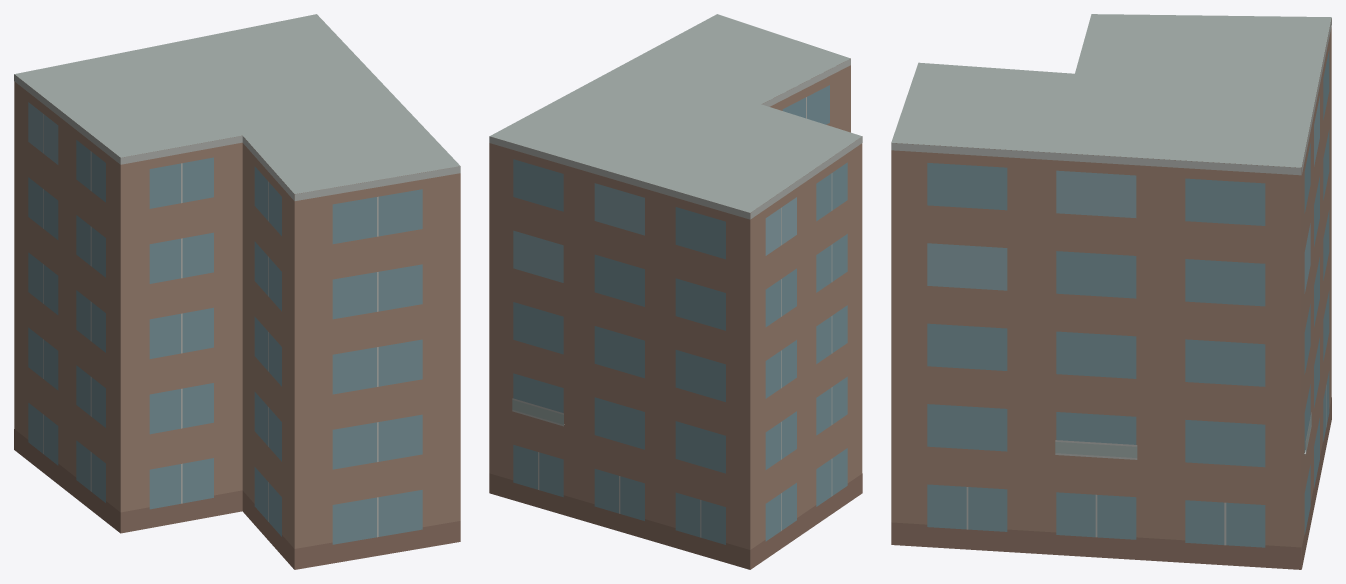
The model's file is survey-upis-32795678.glb.
3 views of the same model, side by side, from view 1: azimuth 30°, elevation 25°; view 2: azimuth 150°, elevation 25°; view 3: azimuth 270°, elevation 25° (orthographic). The views are drawn at different scales.
Parts seen in each view (by area): view 1: survey-upis-32795678.tmp; view 2: survey-upis-32795678.tmp; view 3: survey-upis-32795678.tmp.
Part boxes in pixels (left/top/right/bottom): survey-upis-32795678.tmp: left=14, top=14, right=460, bottom=569; survey-upis-32795678.tmp: left=489, top=14, right=862, bottom=569; survey-upis-32795678.tmp: left=891, top=14, right=1331, bottom=569.
Bounding box in the file's own units: 10.67 × 13 × 12.92.
